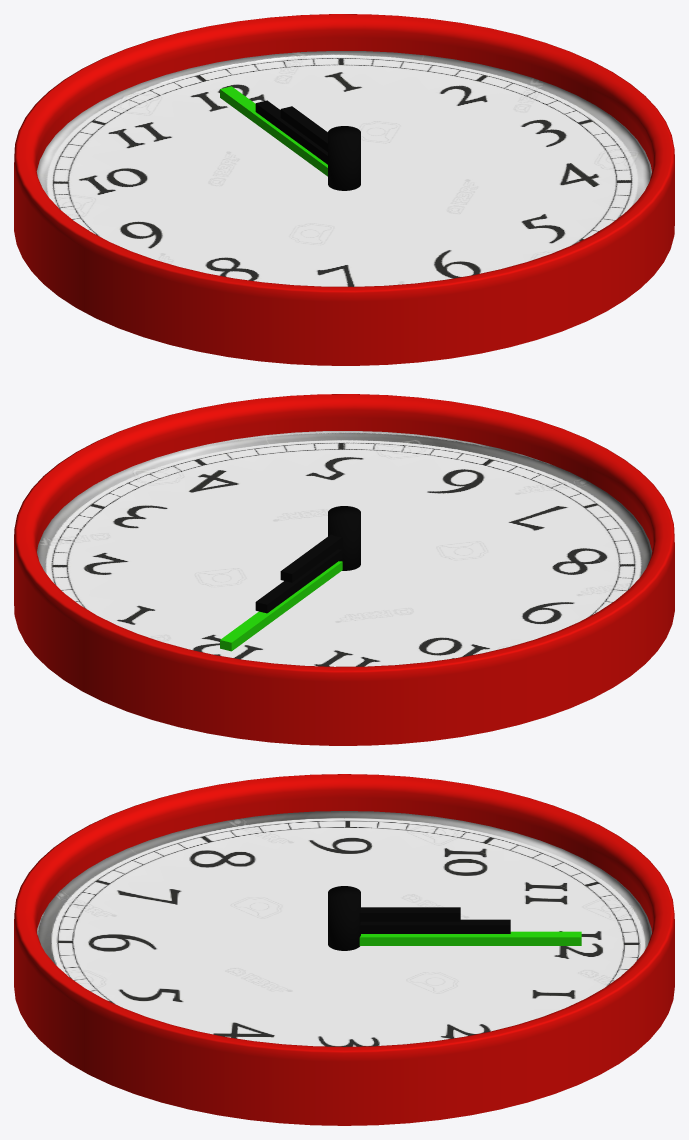
The model's file is Escena_relog.glb.
3 renders of one model, top to bottom at view 1: azimuth 30°, elevation 25°; view 2: azimuth 150°, elevation 25°; view 3: azimuth 270°, elevation 25°, orthographic.
Parts seen in each view (by area): view 1: relog, centro_relog, segundos, minutos, horas; view 2: relog, segundos, centro_relog, minutos, horas; view 3: relog, segundos, minutos, centro_relog, horas.
Boxes of the visible parts, x1,y1,x2,y2 form: relog: (14, 14, 674, 365); centro_relog: (328, 126, 360, 190); segundos: (220, 86, 327, 176); minutos: (255, 100, 327, 164); horas: (280, 106, 327, 151); relog: (14, 394, 674, 745); segundos: (220, 561, 342, 651); centro_relog: (328, 506, 360, 570); minutos: (255, 549, 342, 613); horas: (280, 534, 342, 582); relog: (14, 774, 674, 1125); segundos: (359, 931, 581, 945); minutos: (359, 919, 510, 933); centro_relog: (328, 886, 360, 950); horas: (359, 907, 460, 921).
Size of the model in its own units: 1.99 by 0.3139 by 1.99.
Materials: 4 (1 with a texture image).
